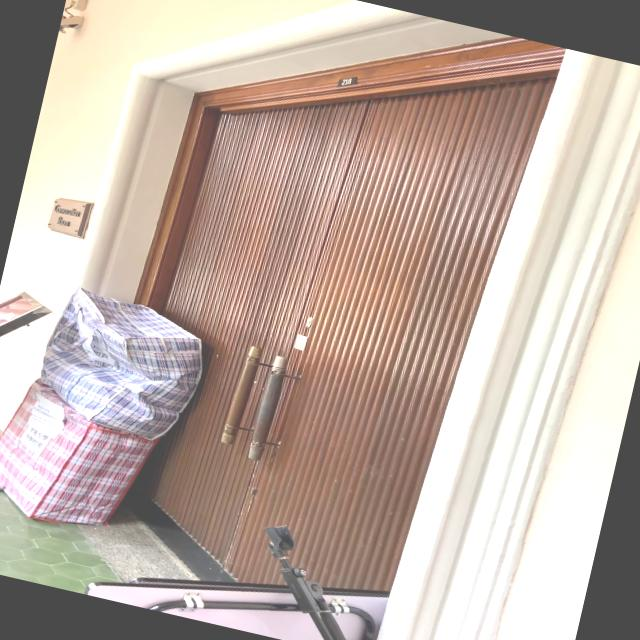room218: (333, 72, 358, 90)
